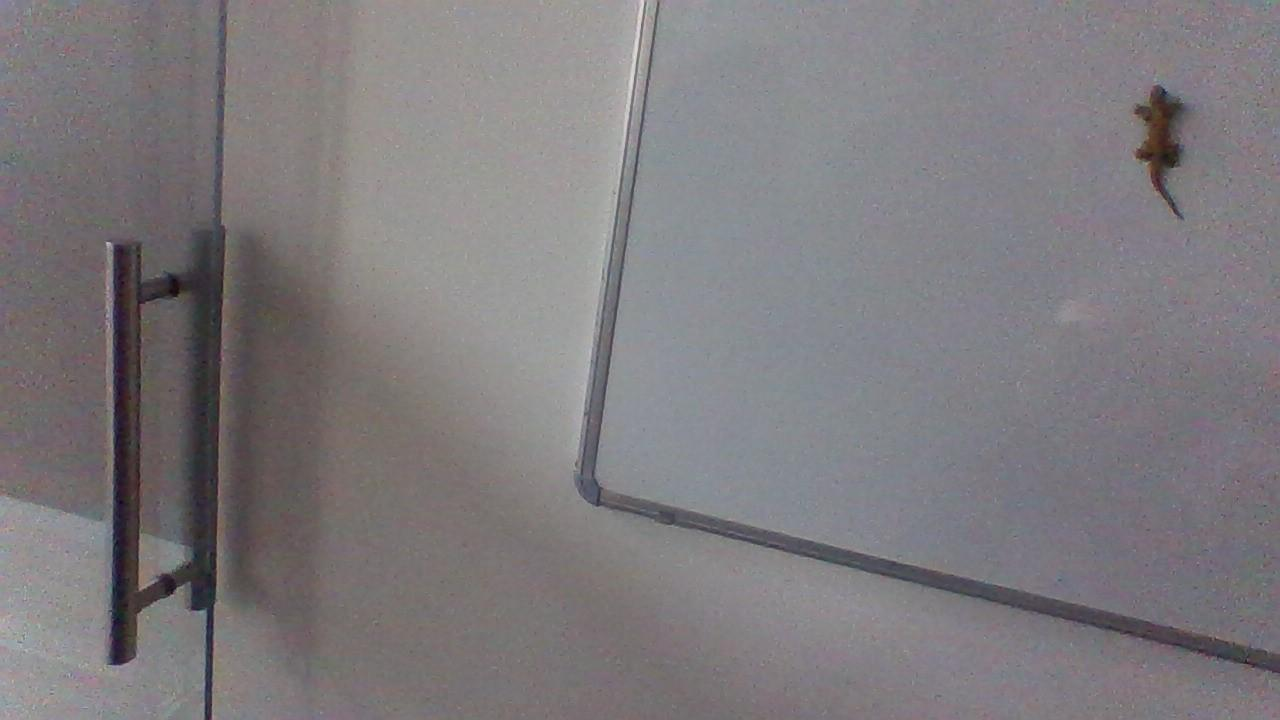lizard: (1129, 75, 1203, 221)
